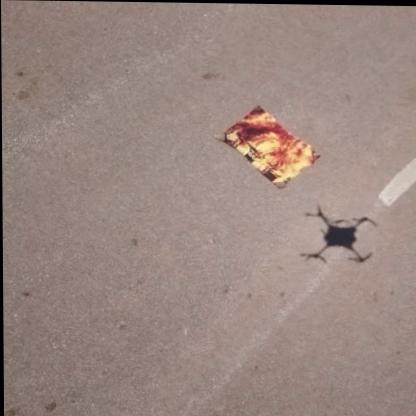fire-poster: (216, 104, 322, 190)
